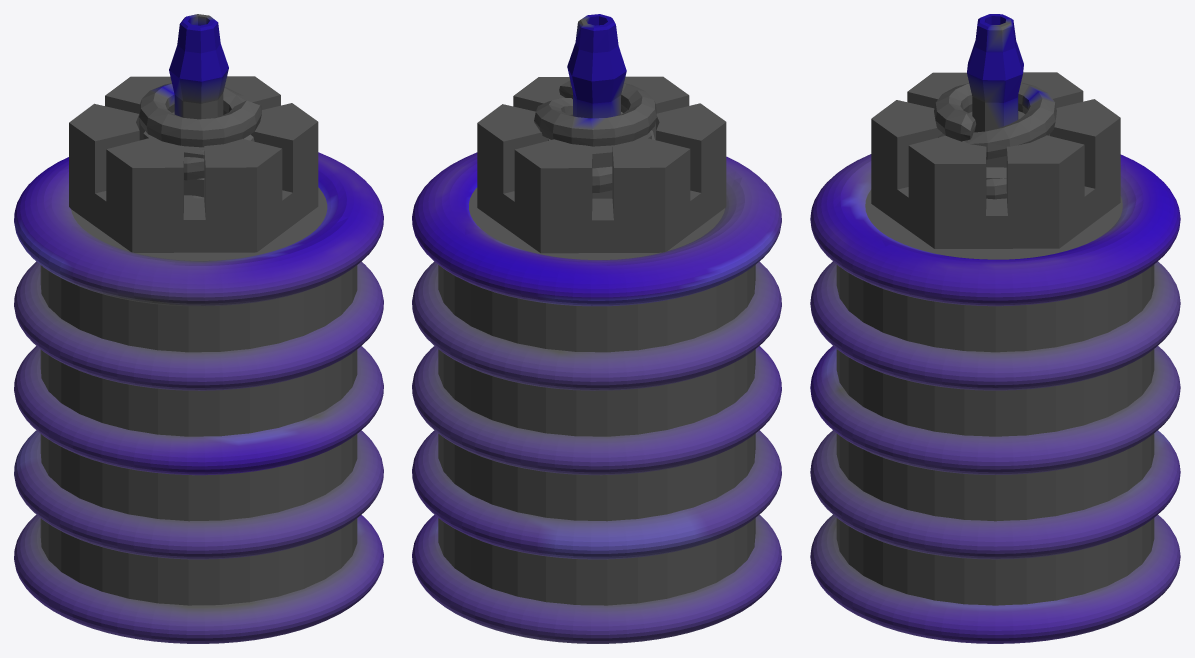
Rendered from barrel.fbx.
3 views of the same model, side by side, from view 1: azimuth 30°, elevation 25°; view 2: azimuth 150°, elevation 25°; view 3: azimuth 270°, elevation 25° (orthographic).
Parts seen in each view (by area): view 1: Merged_PM3D_Cylinder3D3; view 2: Merged_PM3D_Cylinder3D3; view 3: Merged_PM3D_Cylinder3D3.
Boxes of the visible parts, left/top/right/bottom form: Merged_PM3D_Cylinder3D3: left=14, top=14, right=383, bottom=643; Merged_PM3D_Cylinder3D3: left=412, top=14, right=781, bottom=643; Merged_PM3D_Cylinder3D3: left=810, top=14, right=1180, bottom=643.
Bounding box in the file's own units: 2.33 × 3.86 × 2.33.
